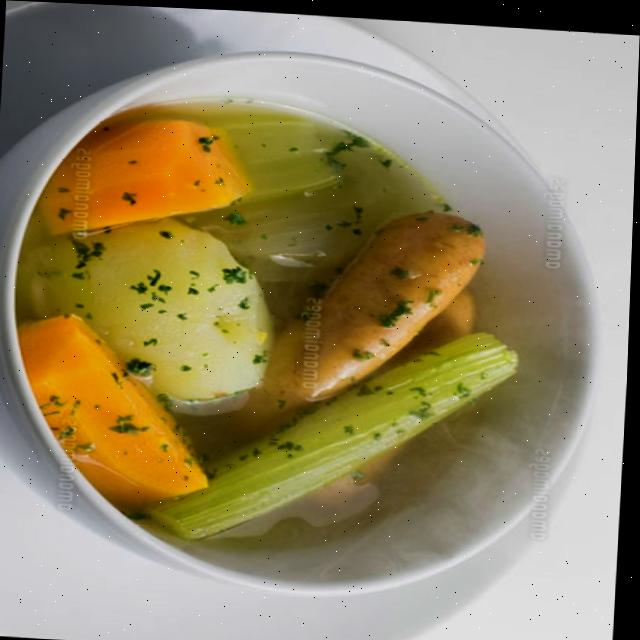汤锅炖物: (0, 43, 611, 602)
